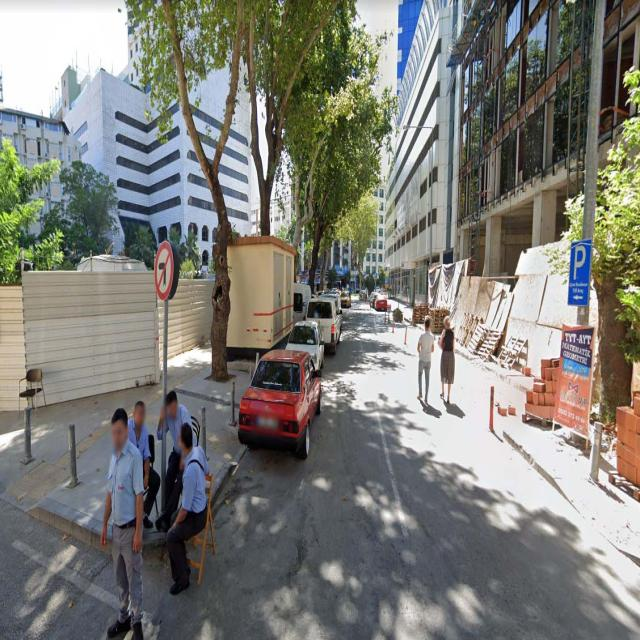park: (570, 242, 592, 306)
soladonulmez: (155, 244, 171, 296)
